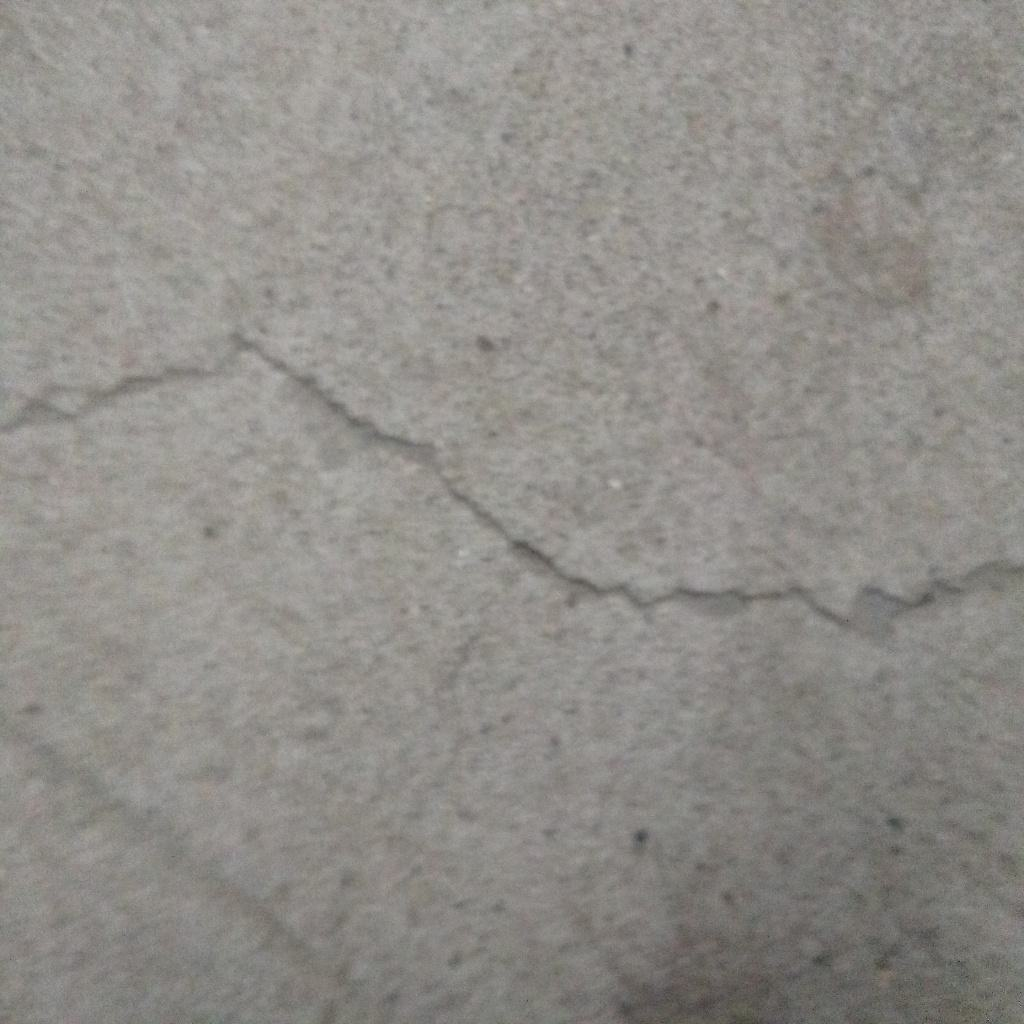Crack: (1, 328, 1024, 655)
